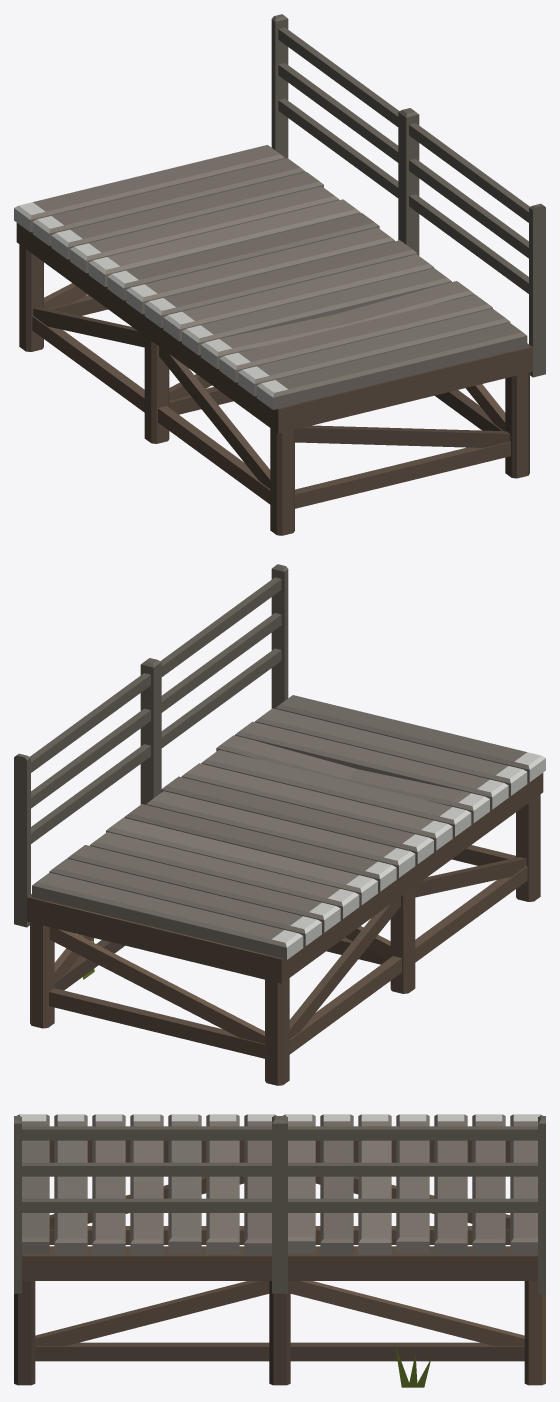
File: timber-halt-platform-042fd8.glb
3 views of the same model, one above another, from view 1: azimuth 30°, elevation 25°; view 2: azimuth 150°, elevation 25°; view 3: azimuth 270°, elevation 25° (orthographic).
Visible parts, largest first — view 1: timber-halt-platform-body; view 2: timber-halt-platform-body; view 3: timber-halt-platform-body, weed-0-blades.
Part boxes in pixels (x1,y1,x2,y2): timber-halt-platform-body: (14, 14, 545, 535); timber-halt-platform-body: (14, 564, 545, 1085); timber-halt-platform-body: (14, 1114, 545, 1385); weed-0-blades: (395, 1344, 430, 1387).
Bounding box in the file's own units: 2.4 × 2.25 × 4.
